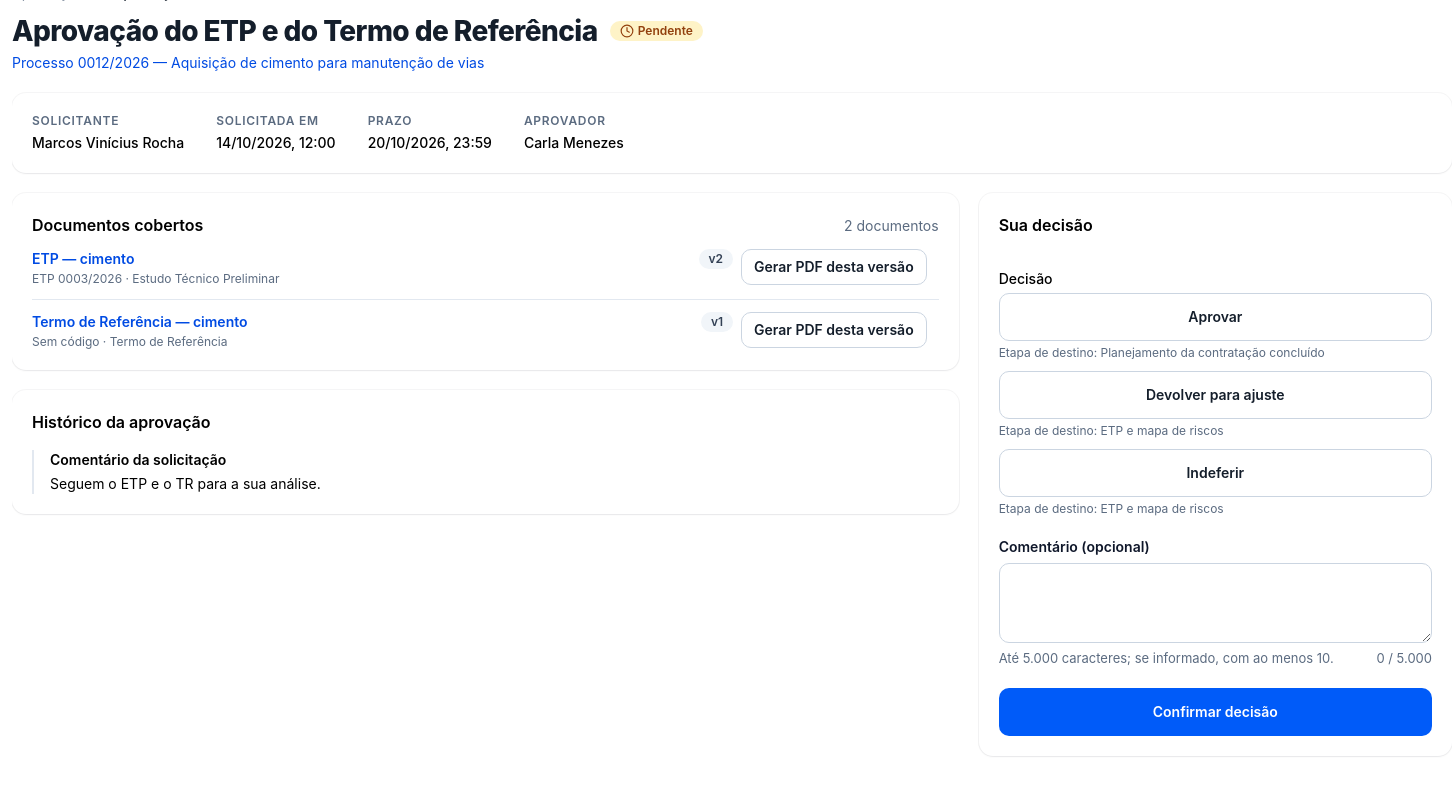
Test case: SCR-015 · Detalhe da aprovação (US-052) › a ciência dos avisos vale só para a opção: trocar de decisão a zera
Click the button "Aprovar": {"x": 1215, "y": 317} x1=999 y1=293 x2=1432 y2=341
(page scrolled)
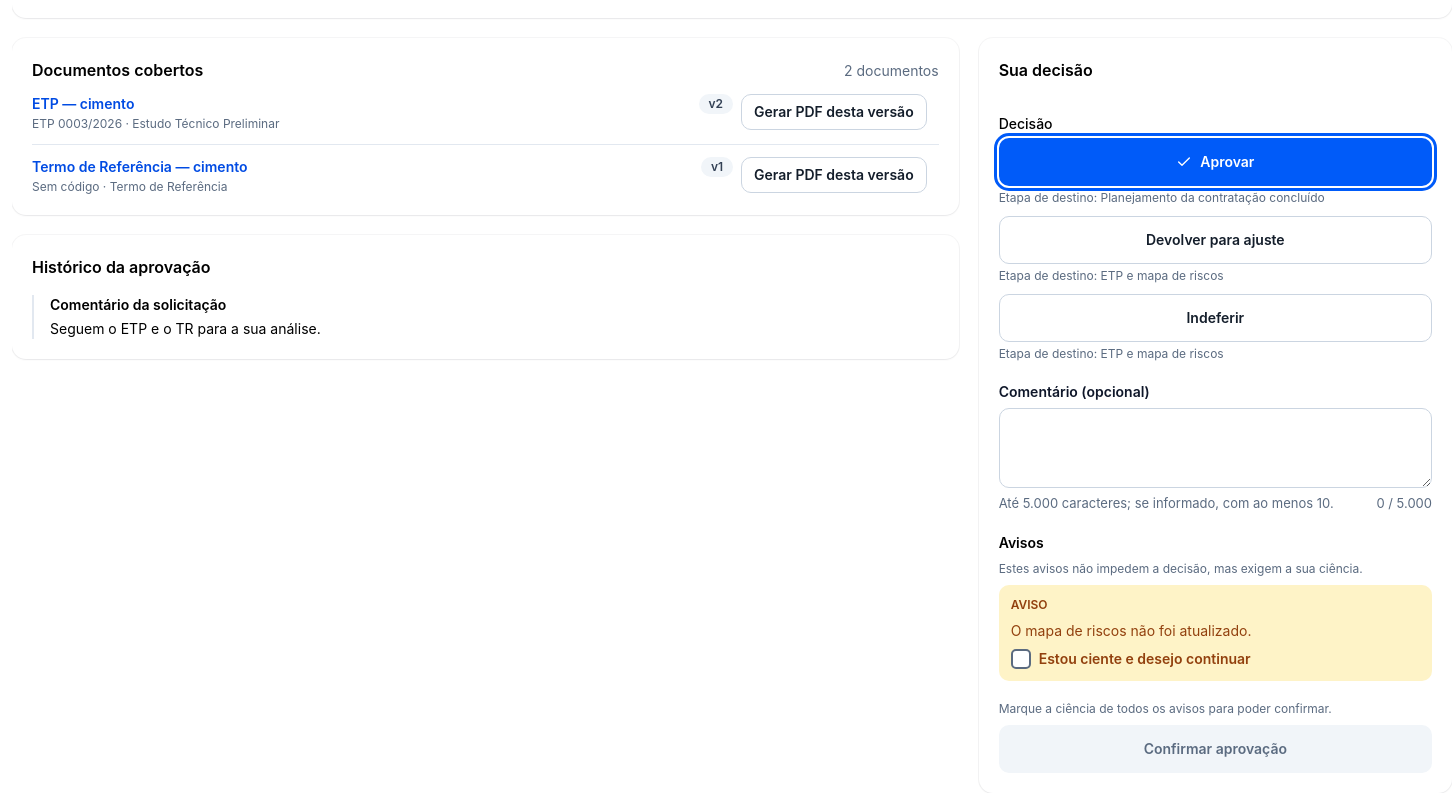
Click the checkbox named "Estou ciente e desejo continuar": {"x": 1021, "y": 659} x1=1011 y1=649 x2=1031 y2=669
(page scrolled)
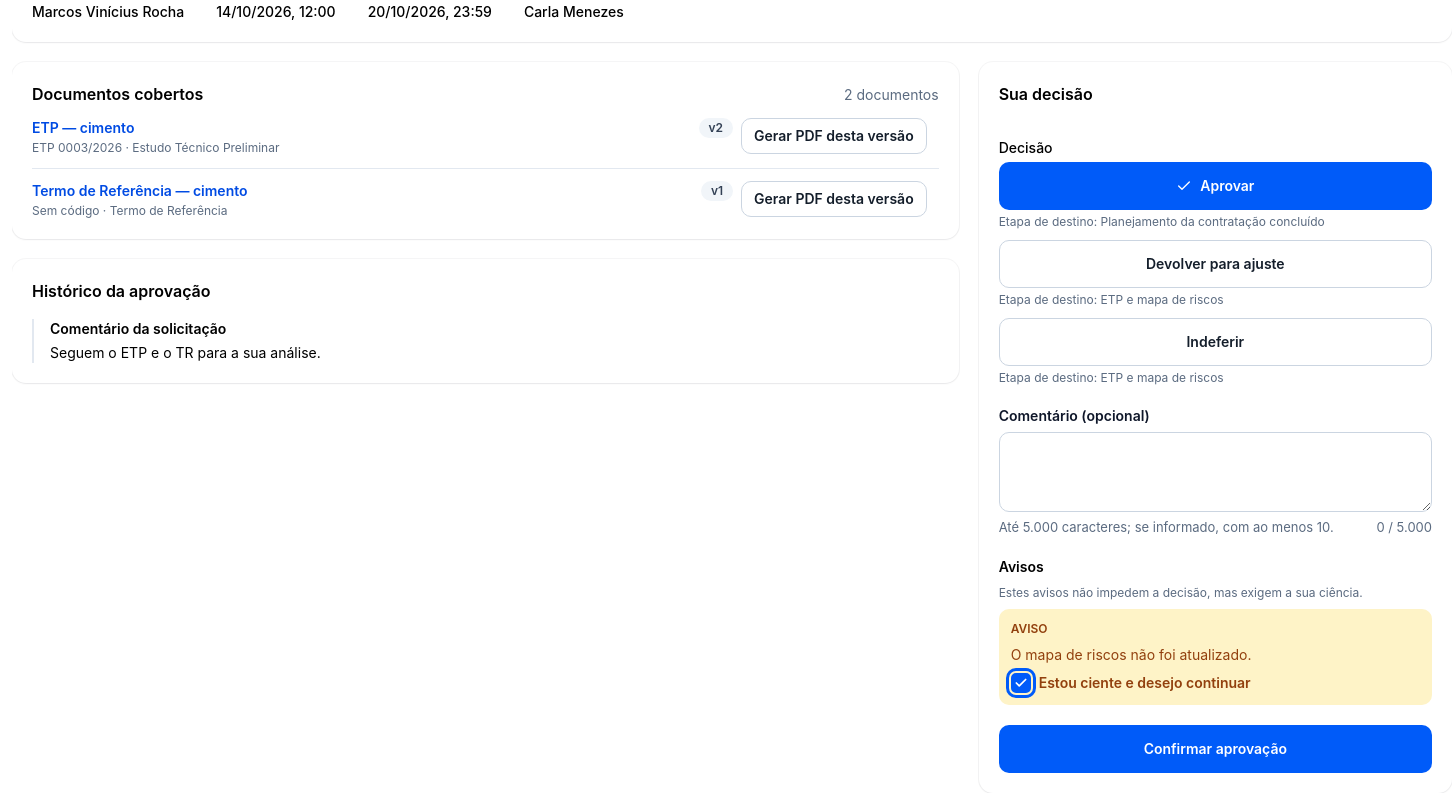
Click the button "Devolver para ajuste": {"x": 1215, "y": 264} x1=999 y1=240 x2=1432 y2=288
(page scrolled)
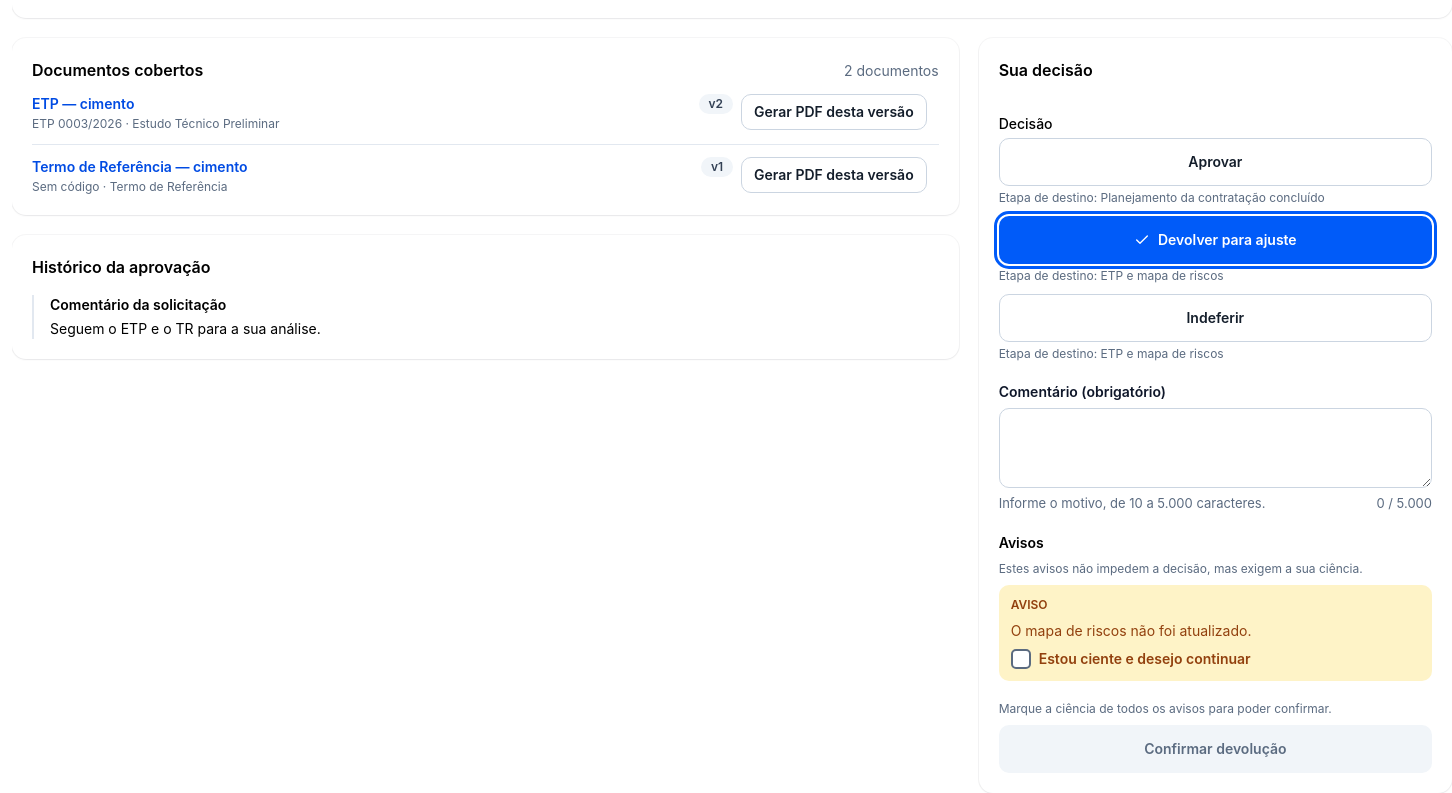
expect the button "Confirmar devolução" is disabled: met, box x1=999 y1=725 x2=1432 y2=773
